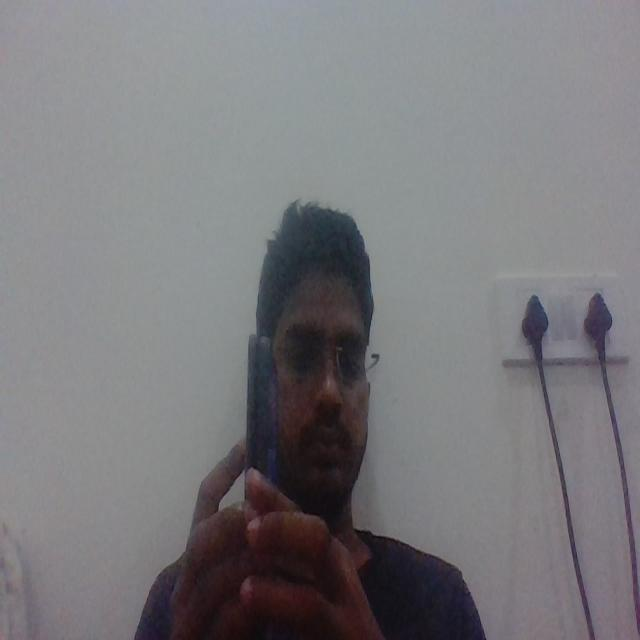Phone: (242, 330, 284, 470)
